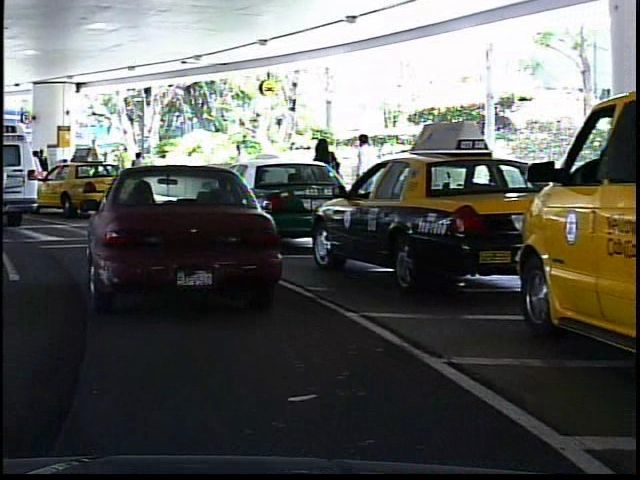person: (305, 133, 340, 230), (347, 129, 379, 225), (225, 138, 253, 206), (122, 146, 149, 198), (32, 147, 41, 172)
